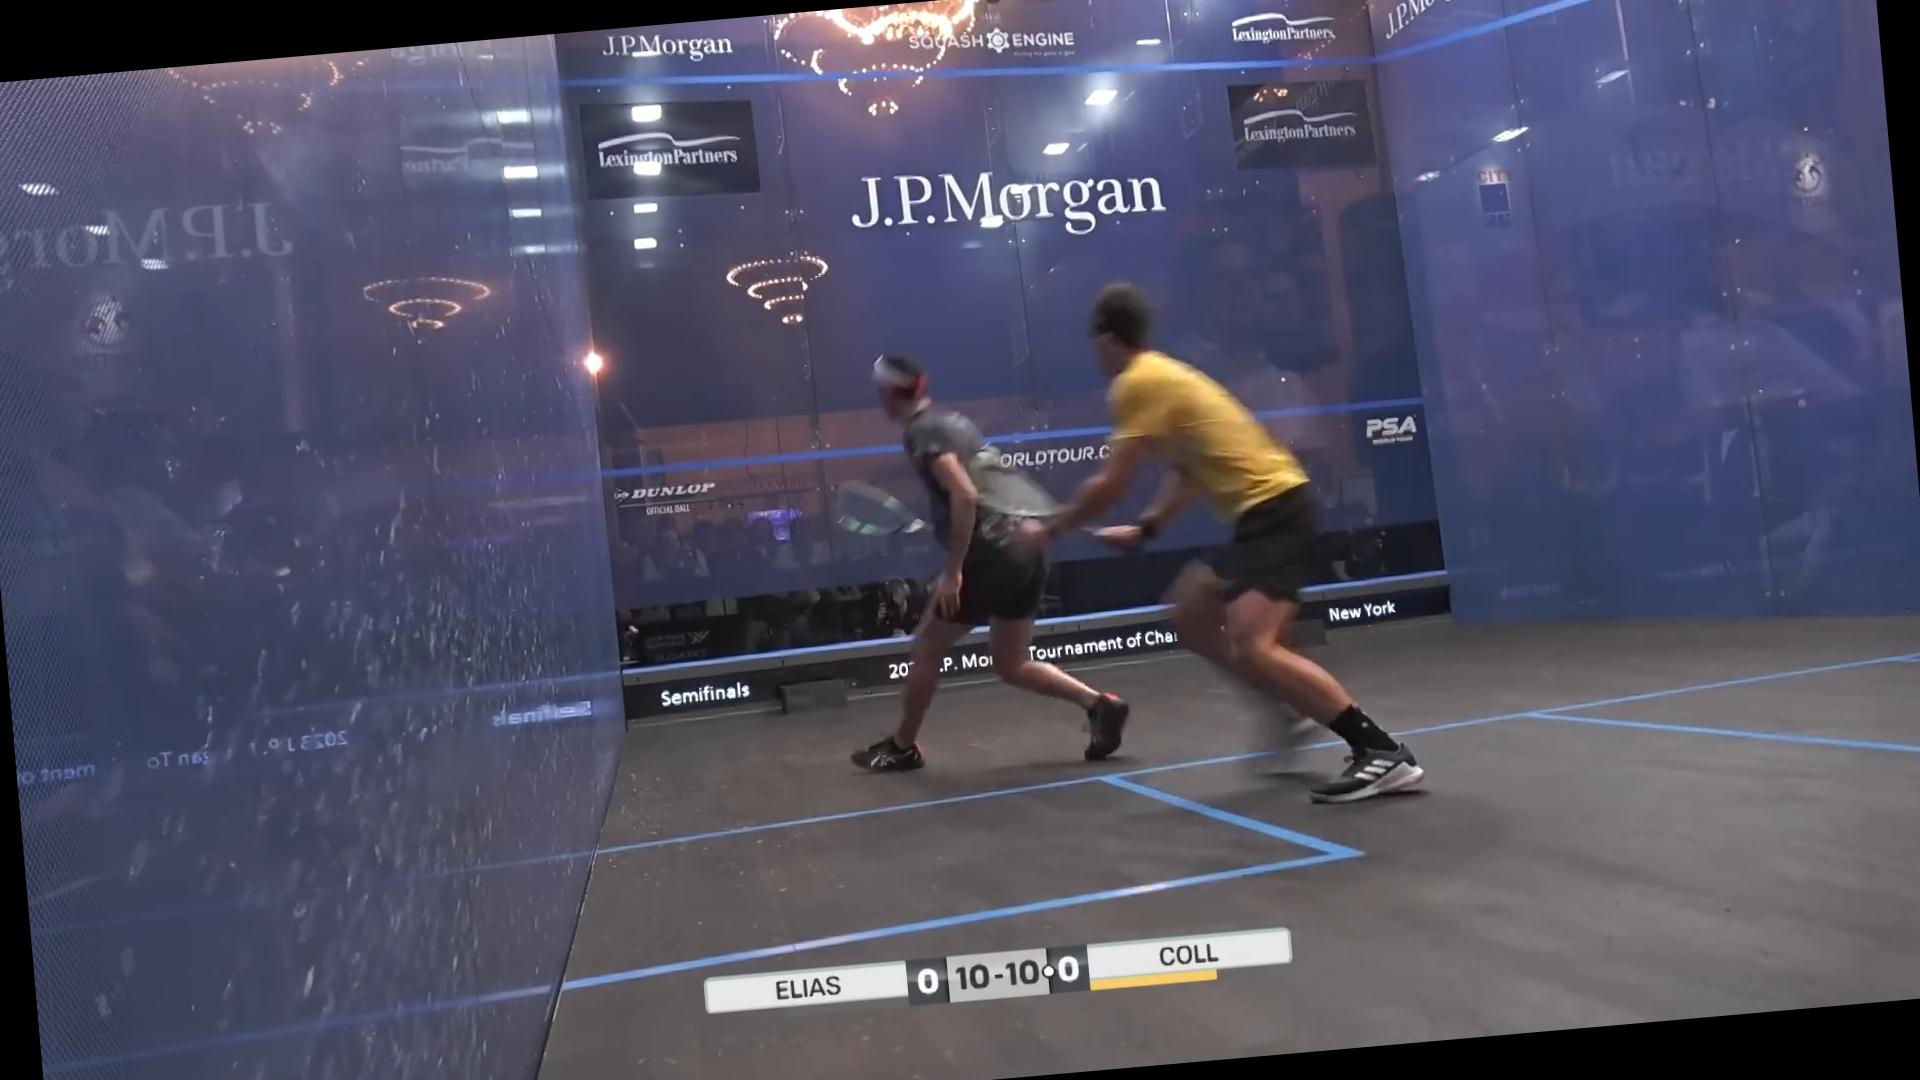Racket: (948, 436, 1073, 527), (814, 459, 920, 553)
